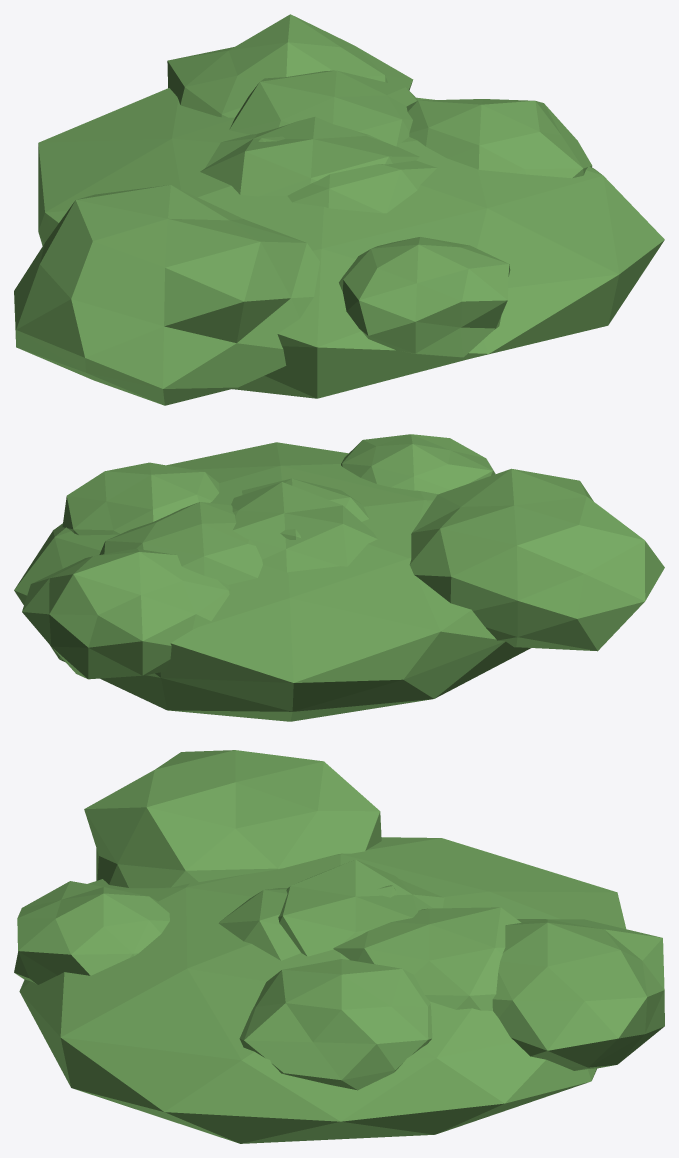
Rendered from deco_moss_light.obj.
3 views of the same model, one above another, from view 1: azimuth 30°, elevation 25°; view 2: azimuth 150°, elevation 25°; view 3: azimuth 270°, elevation 25° (orthographic). The views are drawn at different scales.
Visible parts, largest first — view 1: deco_moss_light; view 2: deco_moss_light; view 3: deco_moss_light.
Boxes of the visible parts, left/top/right/bottom form: deco_moss_light: left=14, top=14, right=664, bottom=405; deco_moss_light: left=14, top=434, right=664, bottom=721; deco_moss_light: left=14, top=750, right=664, bottom=1143.
Size of the model in its own units: 0.08 by 0.0222 by 0.0718.
1 material, 1 textured.
